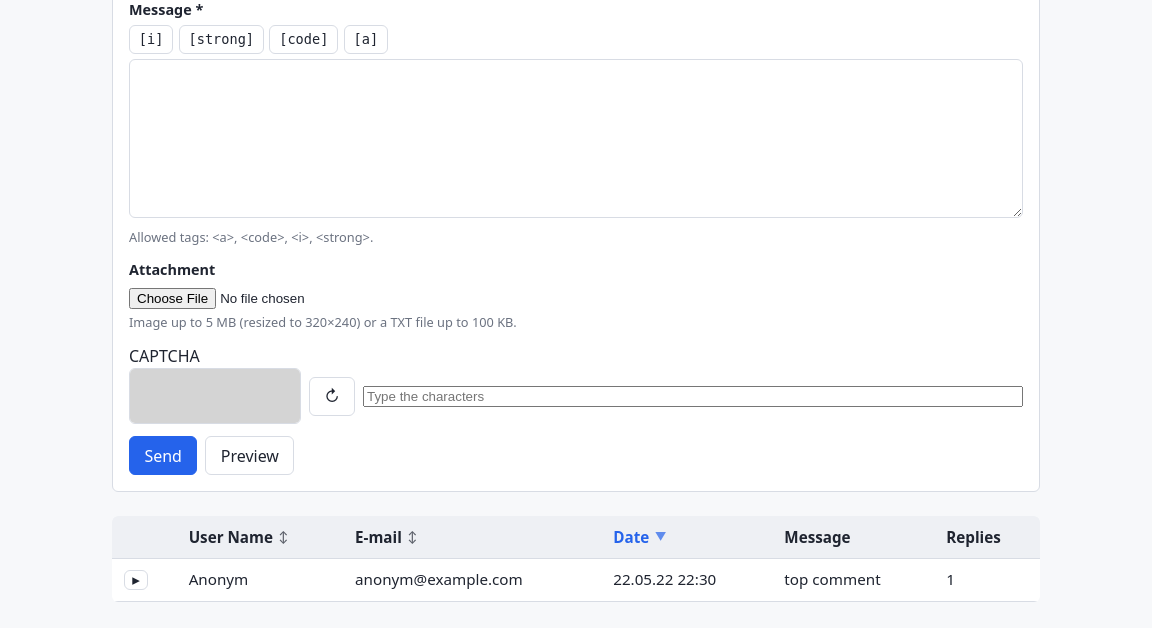
Test case: App › leaves reply mode on cancel
(page scrolled)
Click the button with class "toggle".
click(136, 580)  # box top-left (124, 570), bottom-right (148, 590)
(page scrolled)
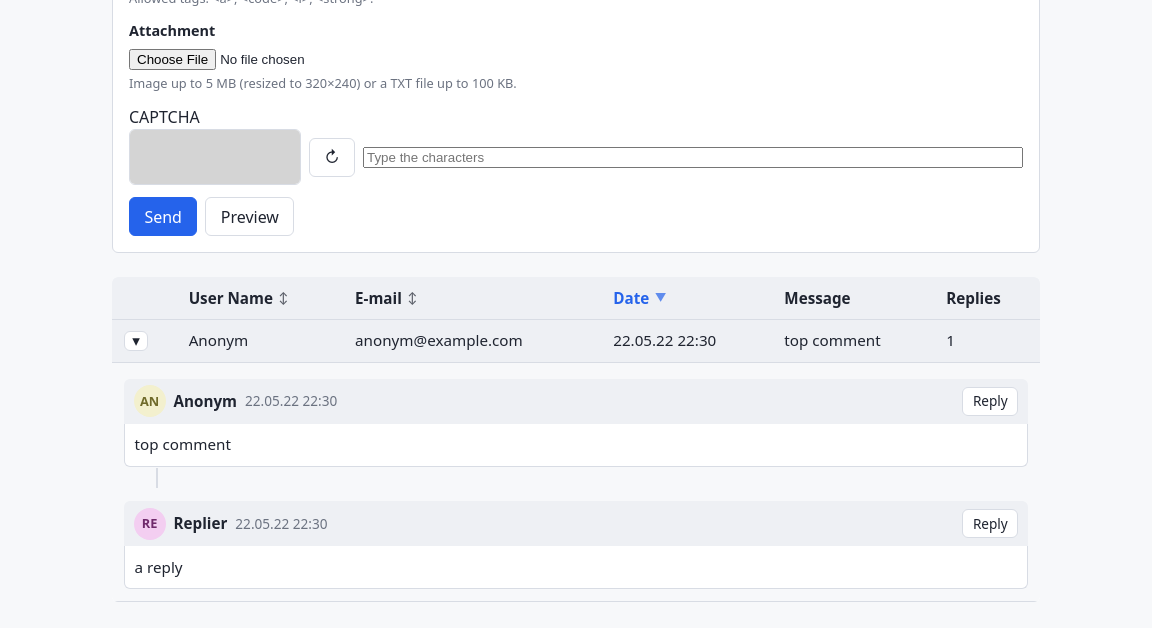
Click the button with class "reply-button" in the row of "Replier".
click(990, 524)  # box top-left (962, 509), bottom-right (1018, 538)
(page scrolled)
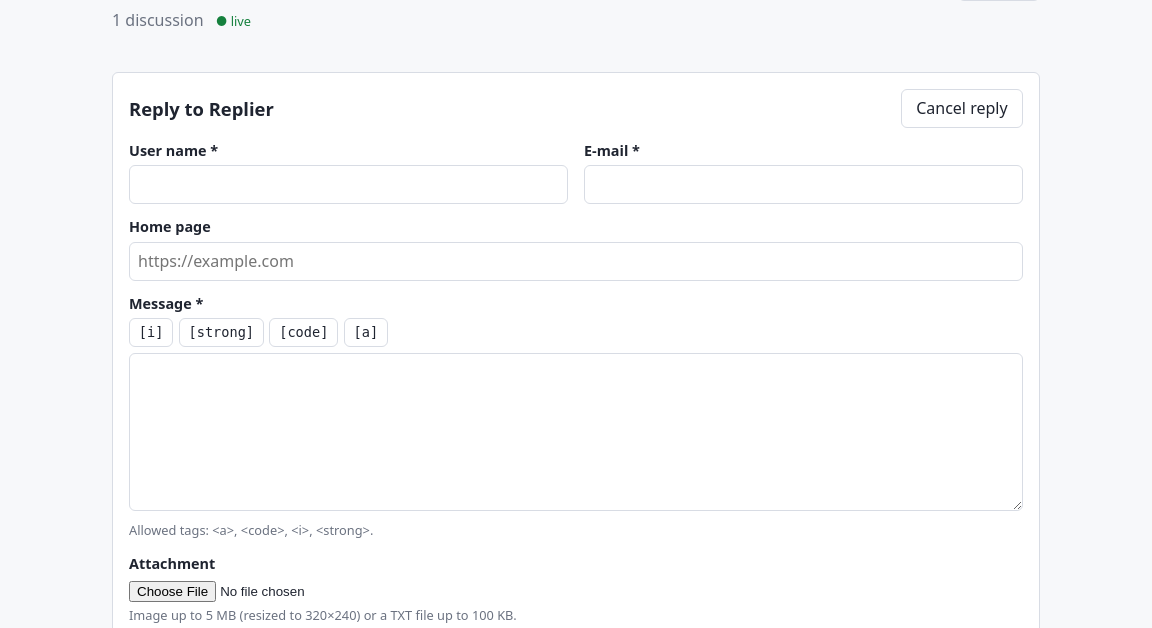
Click the button "Cancel reply".
click(962, 108)  # box top-left (901, 89), bottom-right (1023, 128)
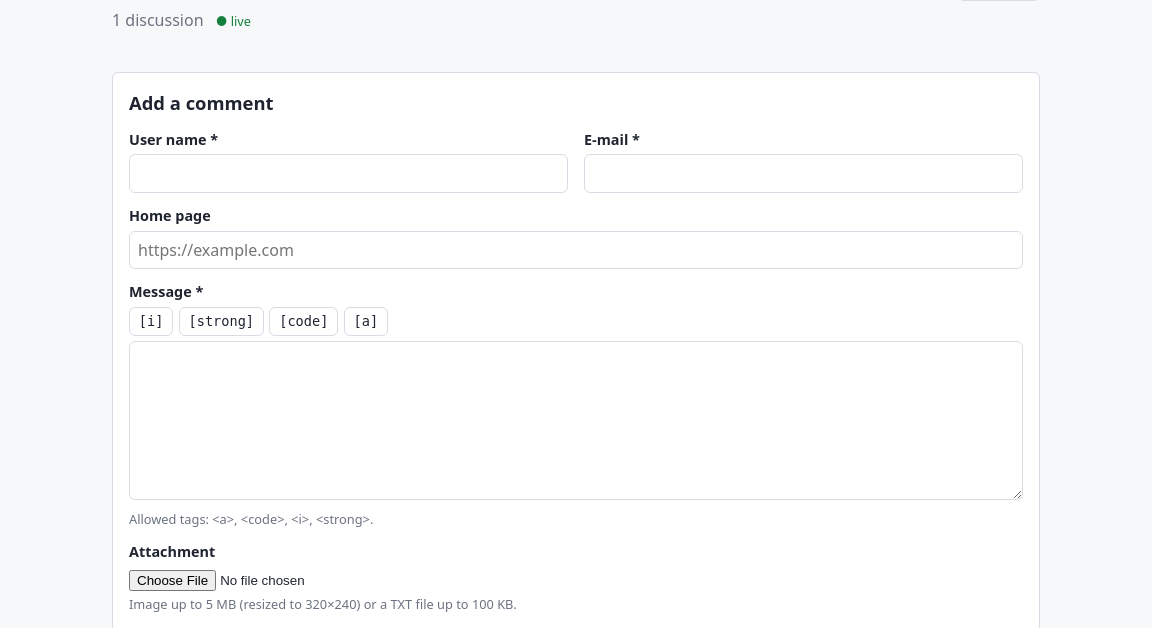
Now the heading "Add a comment" is shown, box top-left (129, 89), bottom-right (274, 117)
